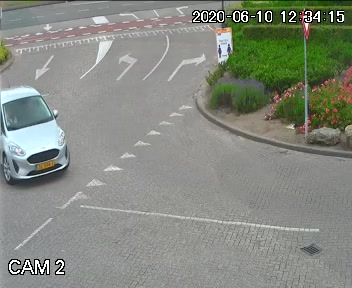car: (0, 82, 77, 190)
